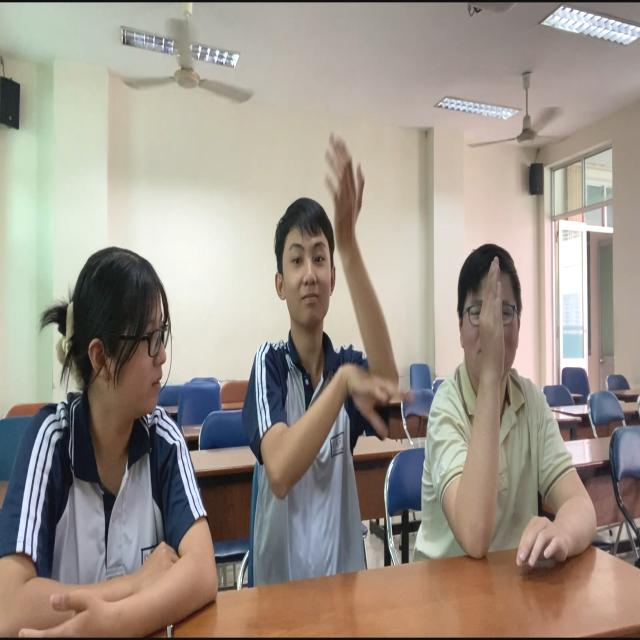raise_hand: (423, 243, 595, 564)
